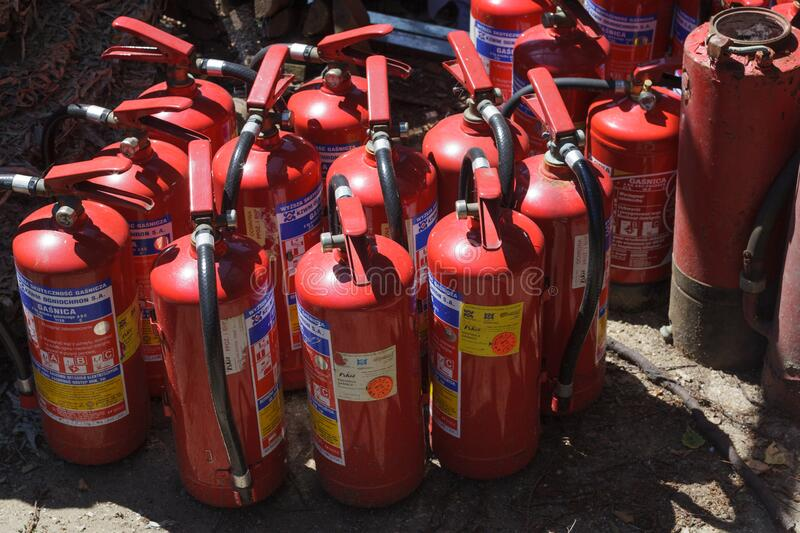fire_extinguisher: (148, 138, 290, 509), (666, 3, 799, 372), (293, 177, 428, 509), (208, 45, 325, 392), (426, 146, 547, 481), (10, 194, 150, 467), (584, 72, 682, 311)
